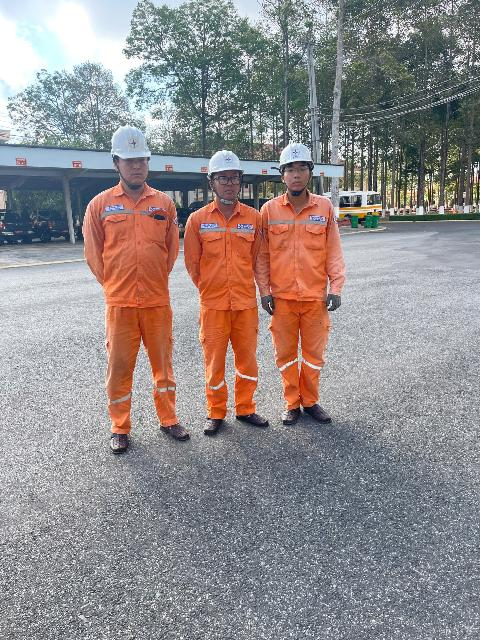gloves: (258, 289, 278, 318), (324, 288, 342, 316)
helmet: (103, 114, 157, 175), (269, 140, 322, 178), (207, 149, 252, 182)
shoes: (101, 425, 132, 461), (236, 402, 266, 432), (161, 418, 194, 445), (303, 401, 335, 424), (278, 399, 300, 426), (198, 409, 218, 438)
